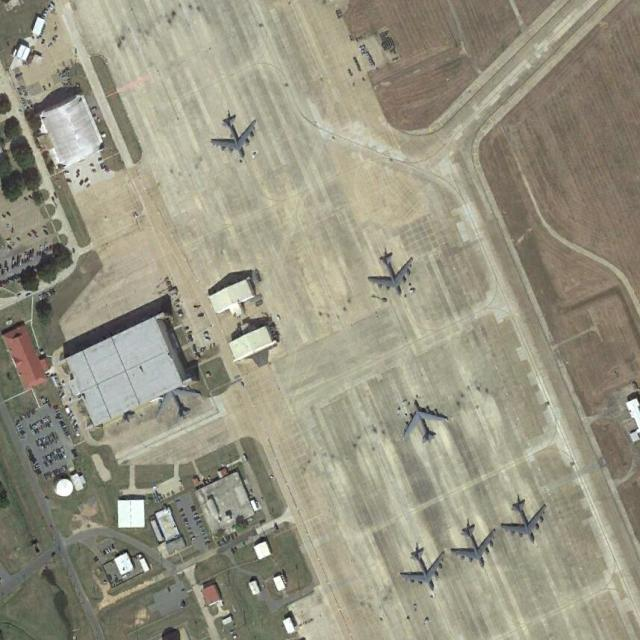fighter jet: (397, 387, 443, 442), (504, 489, 547, 545), (362, 249, 416, 293), (209, 114, 260, 159), (452, 518, 493, 571), (399, 543, 442, 590)
